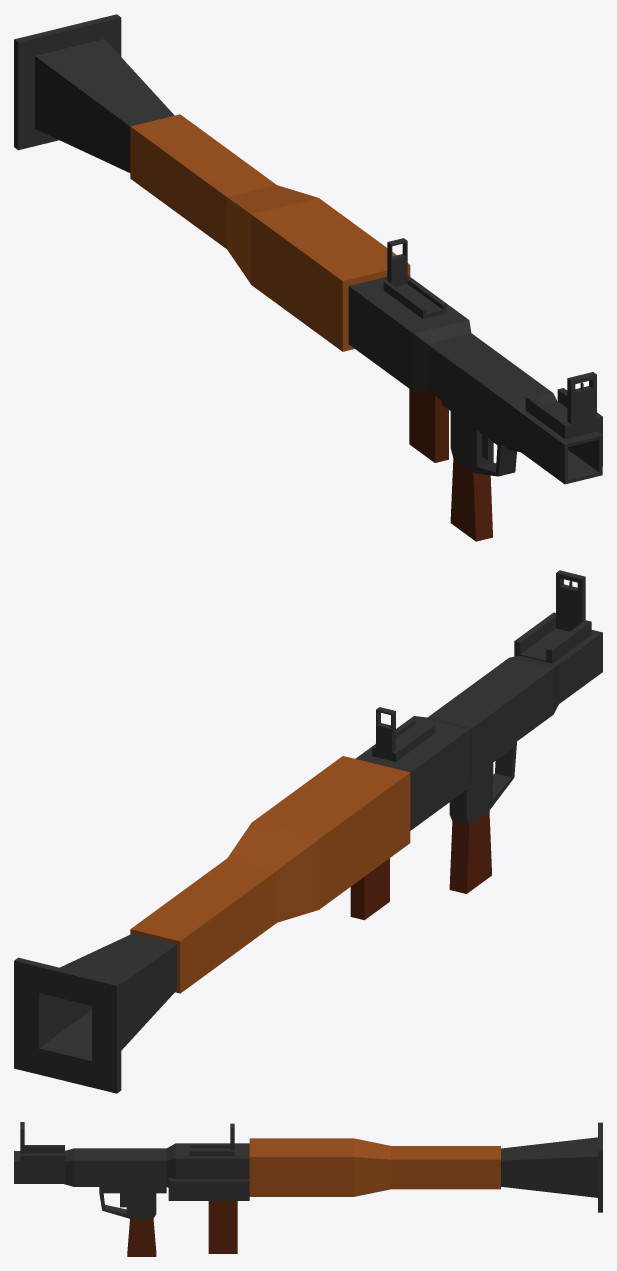
The model's file is RPG-7_Rocket_Launcher.fbx.
3 views of the same model, one above another, from view 1: azimuth 30°, elevation 25°; view 2: azimuth 150°, elevation 25°; view 3: azimuth 270°, elevation 25° (orthographic). The views are drawn at different scales.
Parts seen in each view (by area): view 1: RPG-7_Rocket_Launcher; view 2: RPG-7_Rocket_Launcher; view 3: RPG-7_Rocket_Launcher.
Part boxes in pixels (left/top/right/bottom): RPG-7_Rocket_Launcher: left=14, top=14, right=602, bottom=541; RPG-7_Rocket_Launcher: left=14, top=570, right=602, bottom=1093; RPG-7_Rocket_Launcher: left=14, top=1122, right=602, bottom=1256.
Size of the model in its own units: 11.49 by 24.49 by 100.
